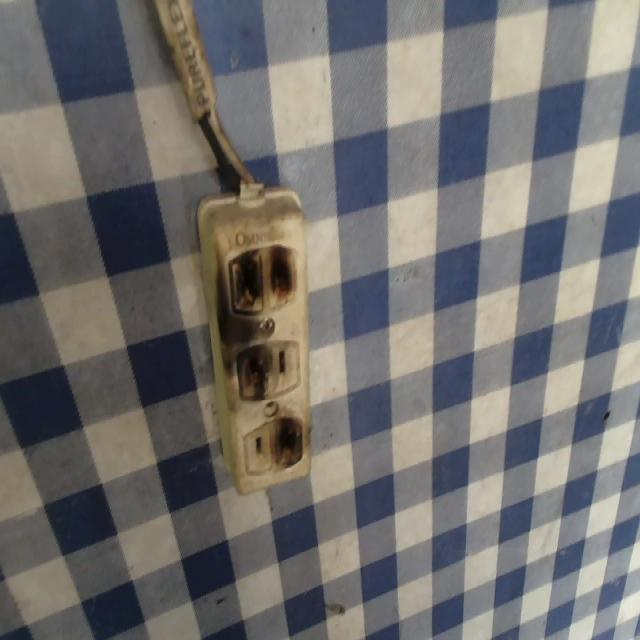-: (218, 233, 312, 316), (220, 336, 276, 408), (266, 413, 309, 475)
